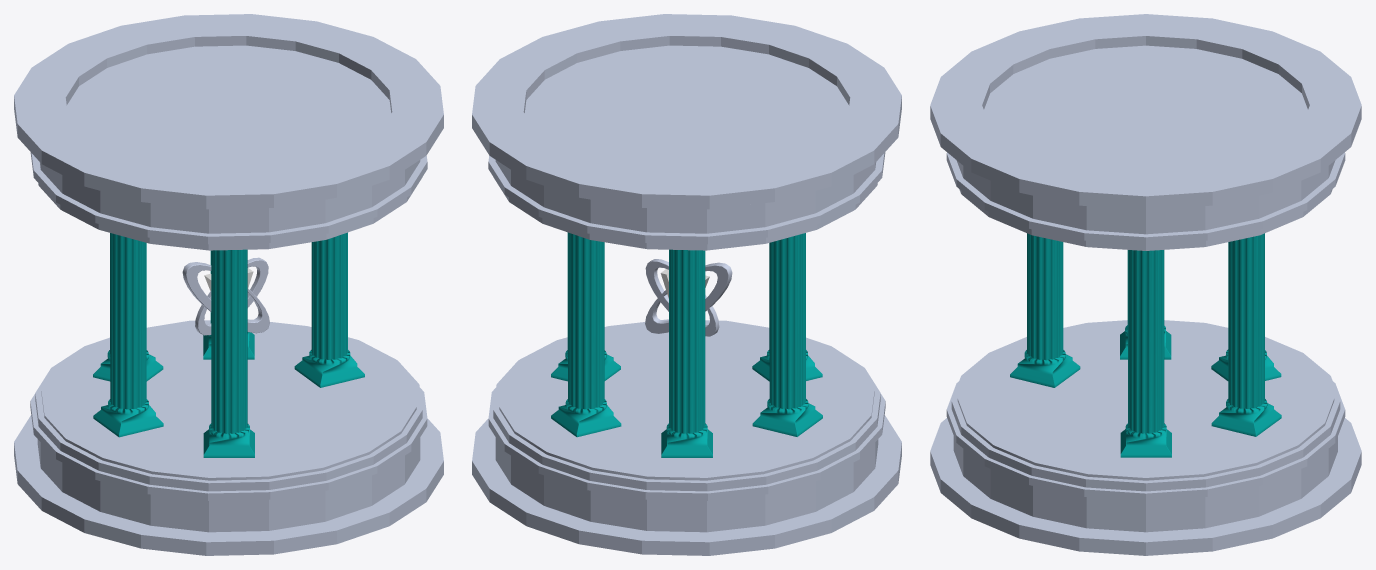
File: Plaza.fbx
3 views of the same model, side by side, from view 1: azimuth 30°, elevation 25°; view 2: azimuth 150°, elevation 25°; view 3: azimuth 270°, elevation 25° (orthographic).
Visible parts, largest first — view 1: pCylinder1, pCylinder2, loftedSurface5, loftedSurface4, loftedSurface1, bevelPolygon3, bevelPolygon9, loftedSurface3; view 2: pCylinder1, pCylinder2, loftedSurface3, loftedSurface2, loftedSurface4, bevelPolygon3, bevelPolygon9, loftedSurface1, loftedSurface5; view 3: pCylinder1, pCylinder2, loftedSurface1, loftedSurface2, loftedSurface5, loftedSurface3, loftedSurface4.
Boxes of the visible parts, x1,y1,x2,y2 form: pCylinder1: [14, 14, 443, 250]; pCylinder2: [14, 319, 443, 555]; loftedSurface5: [203, 249, 254, 457]; loftedSurface4: [93, 233, 163, 437]; loftedSurface1: [294, 232, 364, 387]; bevelPolygon3: [182, 262, 269, 333]; bevelPolygon9: [195, 257, 268, 335]; loftedSurface3: [93, 233, 163, 381]; pCylinder1: [472, 14, 901, 250]; pCylinder2: [472, 319, 901, 555]; loftedSurface3: [661, 249, 712, 457]; loftedSurface2: [551, 232, 621, 437]; loftedSurface4: [752, 233, 822, 436]; bevelPolygon3: [645, 262, 732, 333]; bevelPolygon9: [645, 259, 719, 336]; loftedSurface1: [551, 232, 620, 381]; loftedSurface5: [752, 243, 822, 381]; pCylinder1: [930, 14, 1361, 250]; pCylinder2: [930, 320, 1361, 555]; loftedSurface1: [1120, 250, 1171, 457]; loftedSurface2: [1211, 233, 1281, 436]; loftedSurface5: [1010, 233, 1080, 387]; loftedSurface3: [1211, 349, 1281, 380]; loftedSurface4: [1120, 250, 1171, 359].
Bounding box in the file's own units: 137 × 126 × 137.
